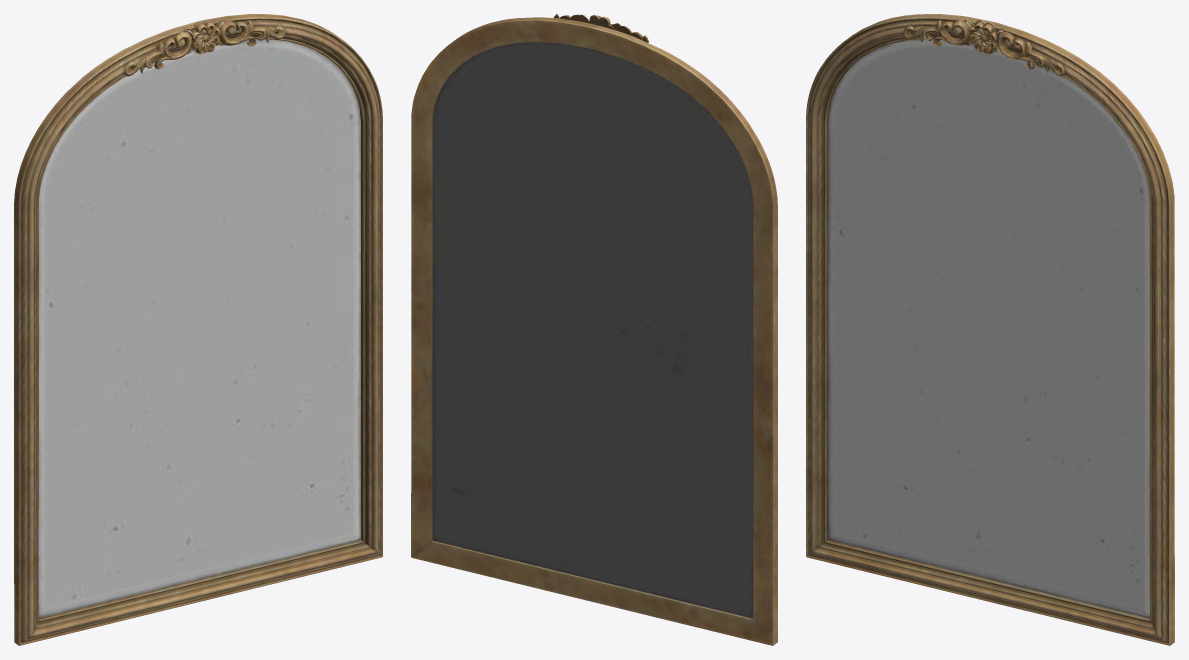
The model's file is ornate_mirror.glb.
The picture shows the model from 3 angles, left to right: view 1: azimuth 30°, elevation 25°; view 2: azimuth 150°, elevation 25°; view 3: azimuth 330°, elevation 25°; orthographic projection.
Visible parts, largest first — view 1: ornate_mirror_01; view 2: ornate_mirror_01; view 3: ornate_mirror_01.
Part boxes in pixels (left/top/right/bottom): ornate_mirror_01: left=14, top=14, right=382, bottom=645; ornate_mirror_01: left=411, top=14, right=777, bottom=645; ornate_mirror_01: left=806, top=14, right=1174, bottom=645.
Size of the model in its own units: 0.4865 by 0.7442 by 0.0259.
Materials: 1 (1 with a texture image).
